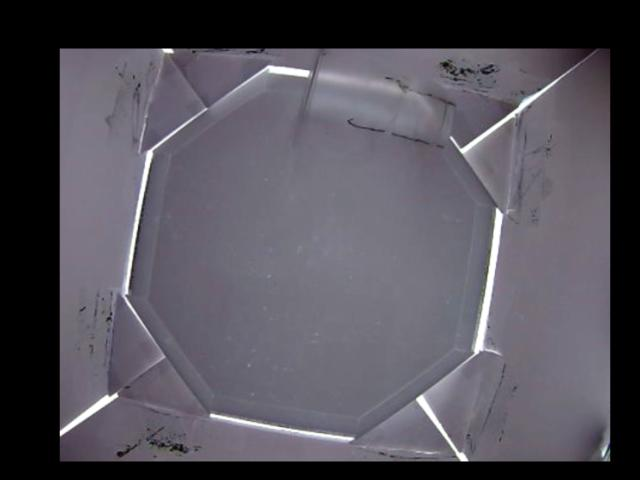Cup: (291, 52, 454, 167)
